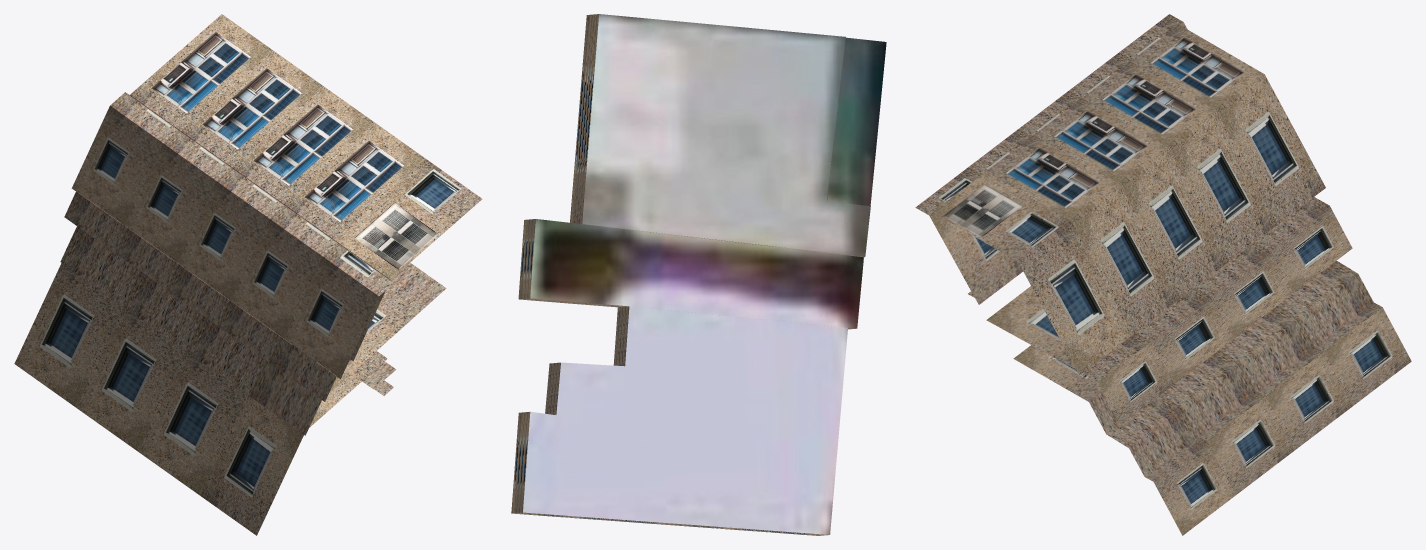
3 views of the same model, side by side, from view 1: azimuth 30°, elevation 25°; view 2: azimuth 150°, elevation 25°; view 3: azimuth 270°, elevation 25° (orthographic). The views are drawn at different scales.
Bounding box in the file's own units: 17.62 × 22.4 × 23.64.
14 materials, 14 textured.
